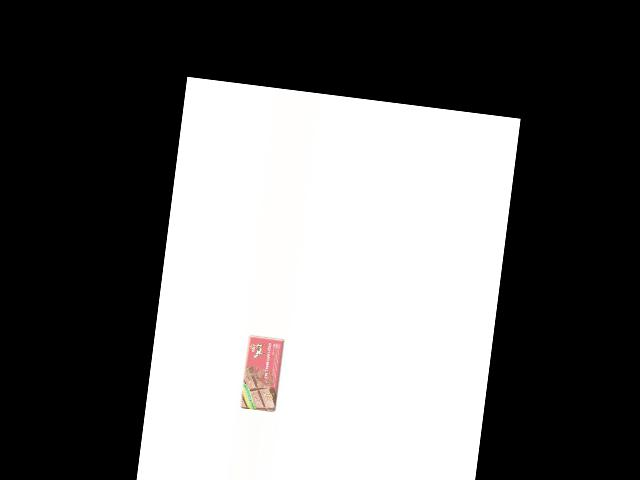chocolate: (238, 333, 286, 412)
